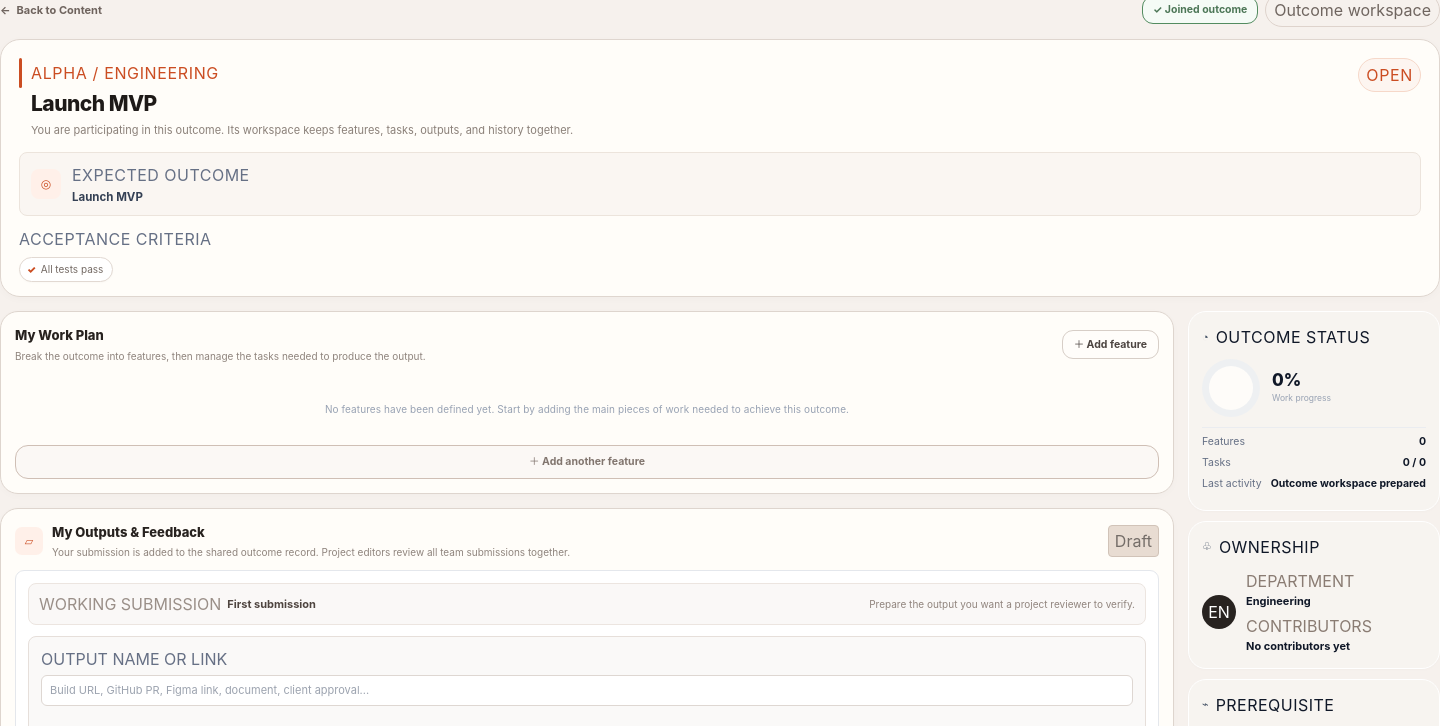
Outcome Workspace - Empty State › allows saving draft and displays Draft saved status
The image size is (1440, 726).
Check: the text "Working submission" is shown, box [39, 592, 221, 616]
Replace the text in the field named "Output content" with "https://github.com/test/pr/1": x=587, y=690 [41, 675, 1133, 706]
(page scrolled)
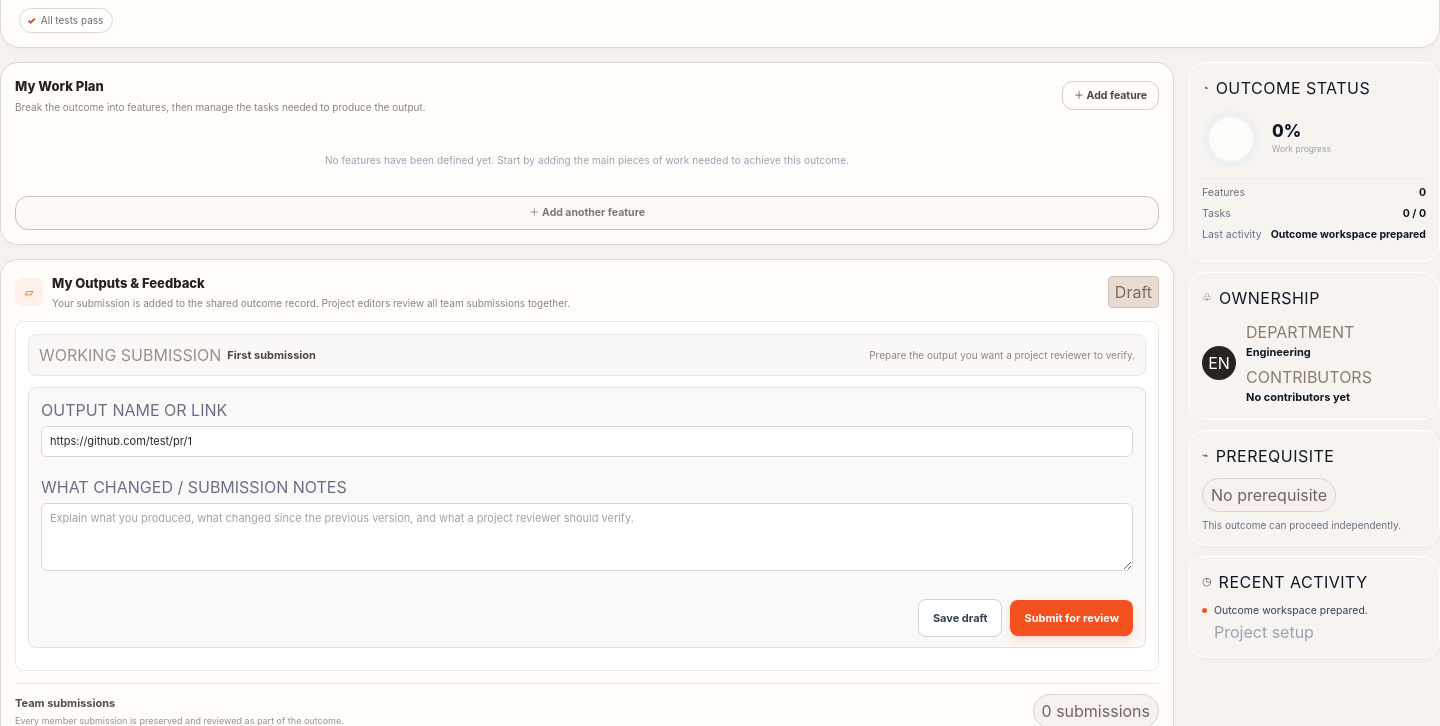
Click the button "Save draft": x=960, y=618 [918, 598, 1002, 637]
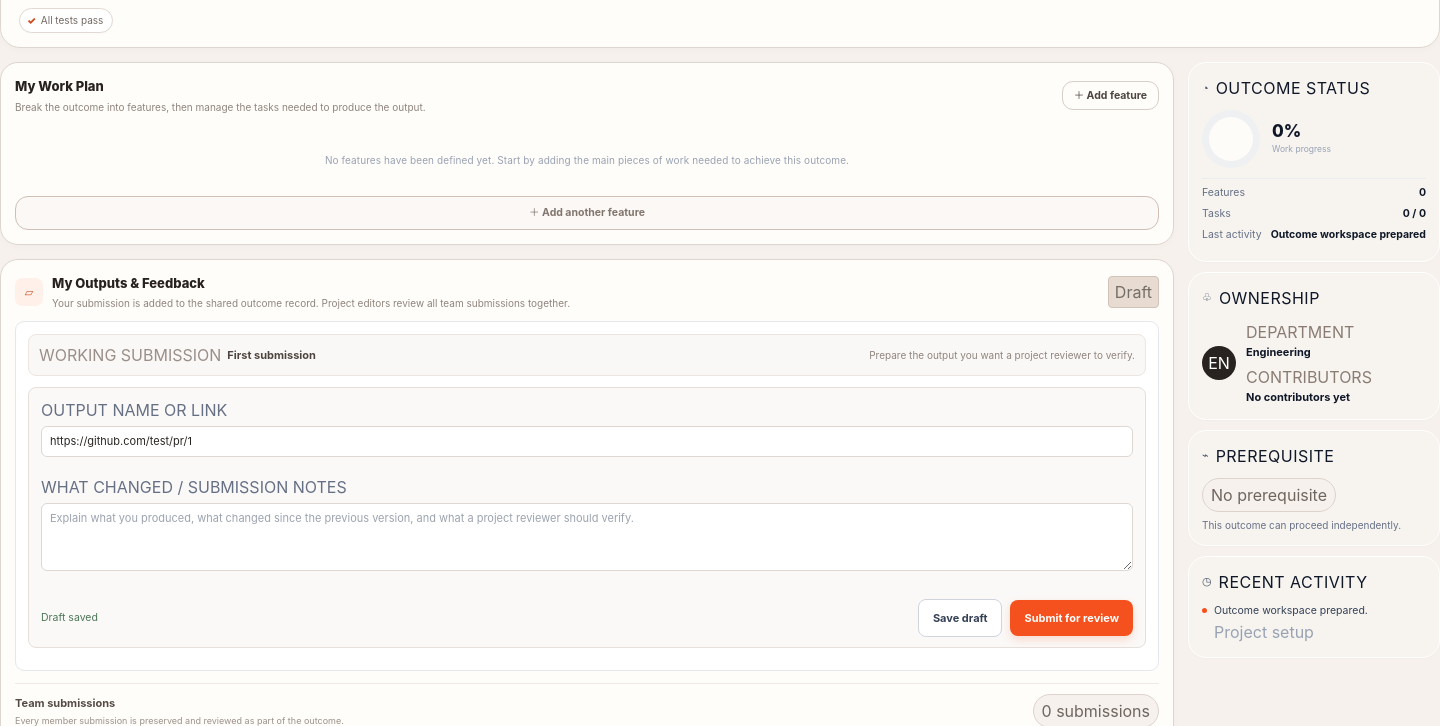
Check: the text "Draft saved" is shown, box [41, 610, 98, 626]
